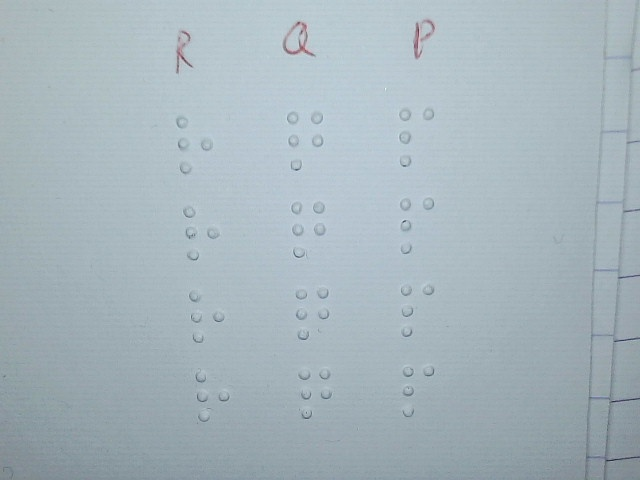P: (398, 106, 436, 166), (398, 196, 435, 253), (399, 283, 435, 337), (401, 363, 436, 417)
Q: (286, 110, 324, 170), (290, 200, 327, 258), (294, 285, 330, 340), (298, 366, 332, 419)
R: (175, 115, 214, 174), (182, 205, 221, 261), (188, 289, 226, 342), (194, 369, 232, 422)
